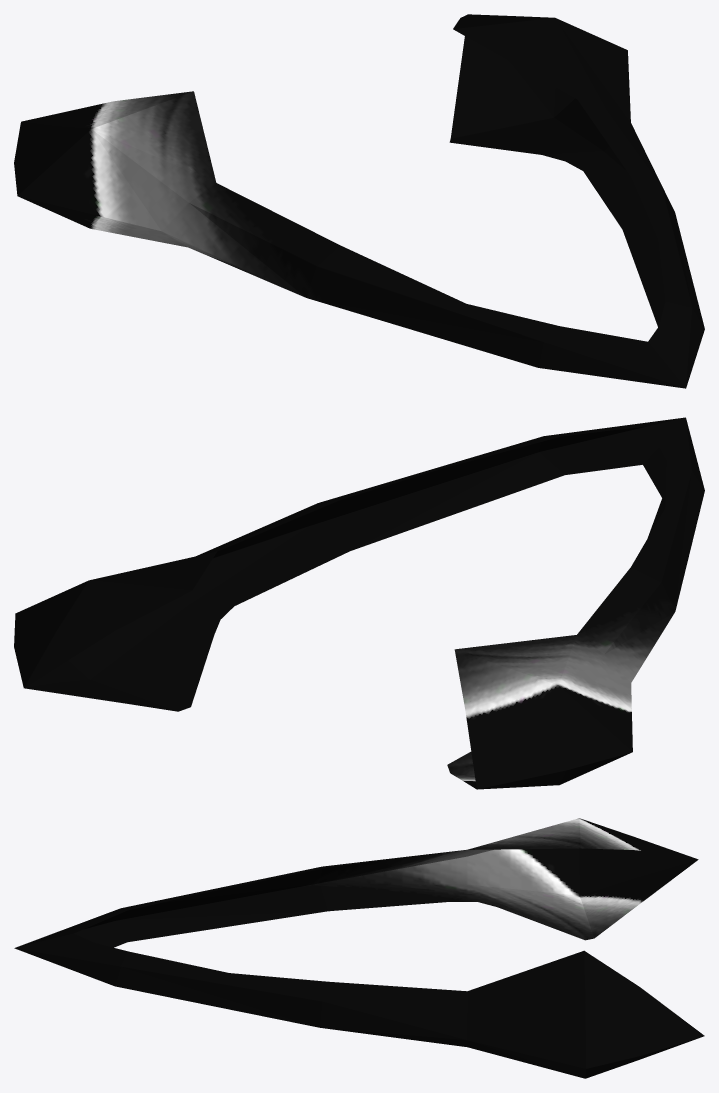
File: 0423_shoubi.glb
The picture shows the model from 3 angles, top to bottom: view 1: azimuth 30°, elevation 25°; view 2: azimuth 150°, elevation 25°; view 3: azimuth 270°, elevation 25°; orthographic projection. The views are drawn at different scales.
Size of the model in its own units: 1.77 by 0.3307 by 2.2.
Materials: 1 (1 with a texture image).
